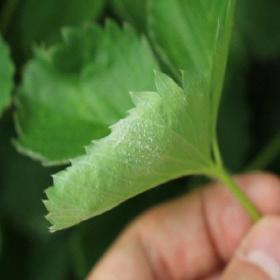Powdery Mildew Leaf: (41, 69, 217, 233)
